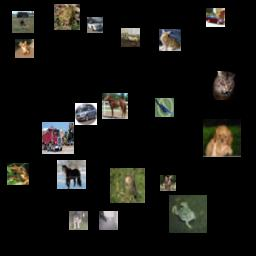airplane: (155, 98, 174, 117)
automobile: (75, 103, 97, 125), (206, 8, 225, 27), (87, 17, 103, 33)
bird: (110, 168, 145, 203)
cat: (209, 71, 238, 100), (159, 29, 181, 51), (69, 211, 88, 230), (99, 211, 118, 230)
deer: (12, 11, 34, 33), (121, 28, 140, 47), (160, 175, 176, 191)
dog: (203, 119, 241, 157), (15, 39, 34, 58)
frog: (169, 195, 207, 233), (54, 4, 80, 30), (7, 163, 29, 185)
truck: (42, 122, 74, 154)
